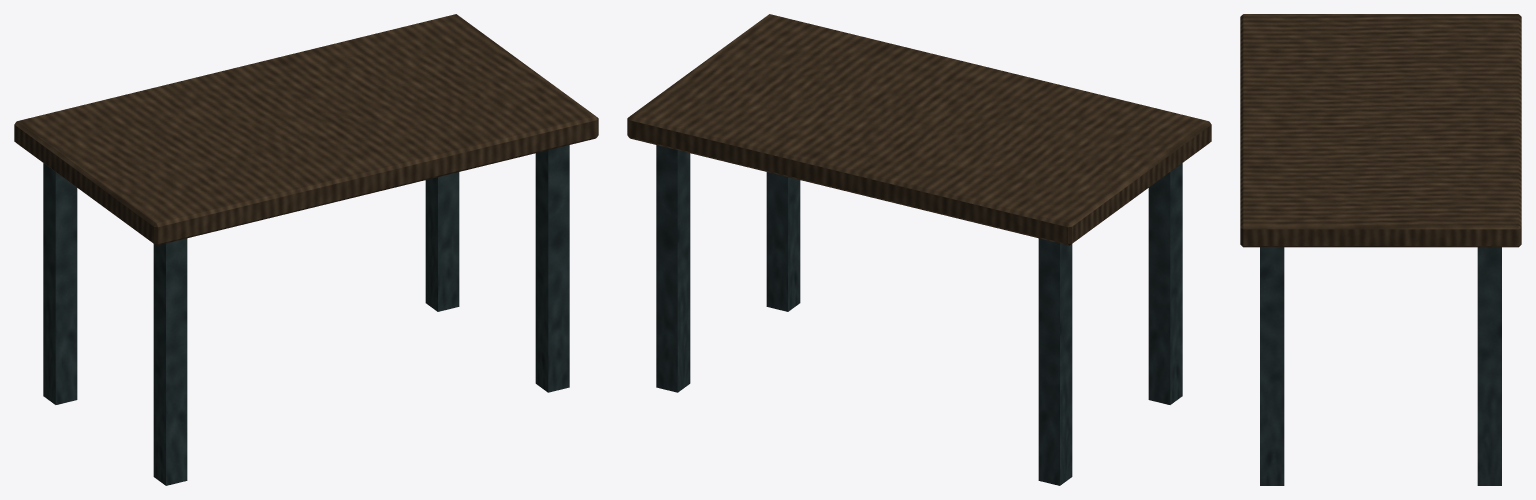
Rendered from Table_Work.glb.
3 renders of one model, left to right at view 1: azimuth 30°, elevation 25°; view 2: azimuth 150°, elevation 25°; view 3: azimuth 270°, elevation 25°, orthographic.
Parts seen in each view (by area): view 1: Table_Work; view 2: Table_Work; view 3: Table_Work.
Boxes of the visible parts, box(x1,y1,x2,y2) form: Table_Work: box(14, 14, 598, 485); Table_Work: box(627, 14, 1211, 485); Table_Work: box(1240, 14, 1521, 485).
Size of the model in its own units: 1.35 by 0.7925 by 0.75.
Materials: 2 (2 with a texture image).
